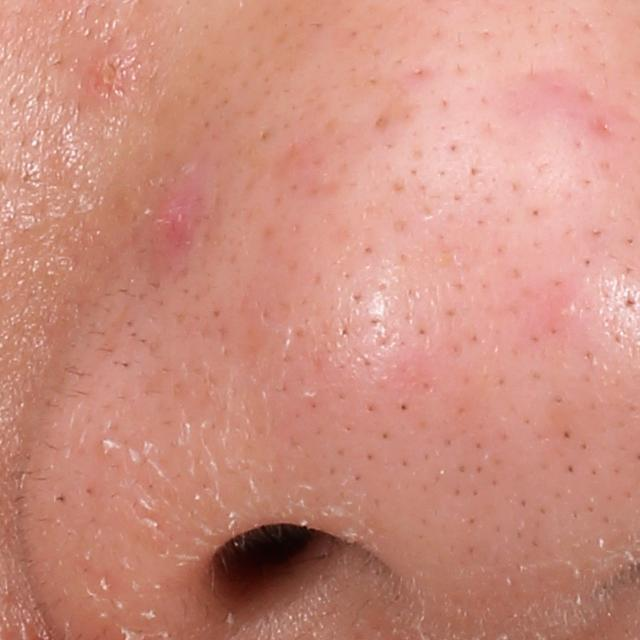papule: (78, 38, 150, 109), (147, 182, 194, 253)
